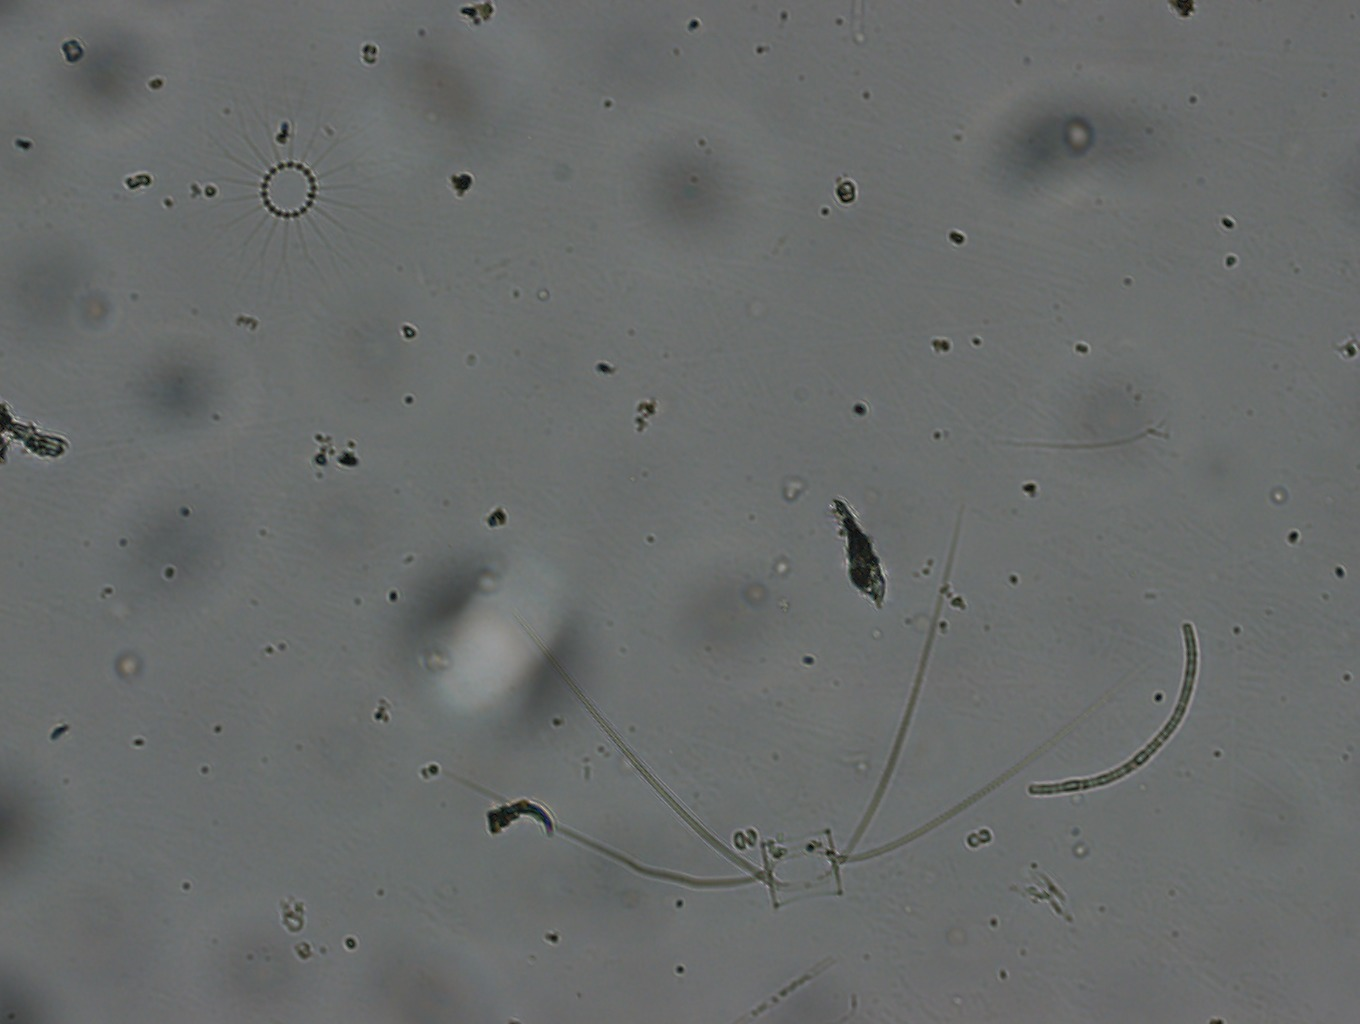bacteriastrum: (181, 89, 395, 308)
chaetoceros: (430, 496, 1144, 908)
